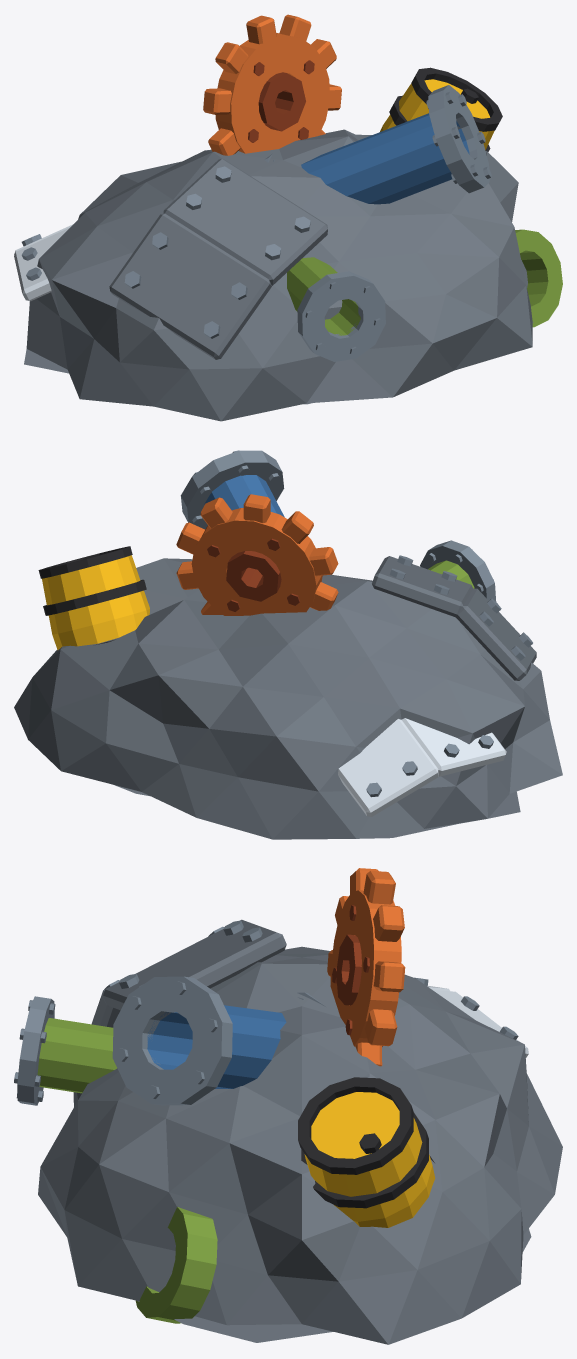
File: prop_scrap_pile.fbx
3 views of the same model, one above another, from view 1: azimuth 30°, elevation 25°; view 2: azimuth 150°, elevation 25°; view 3: azimuth 270°, elevation 25° (orthographic). The views are drawn at different scales.
Visible parts, largest first — view 1: prop_scrap_pile; view 2: prop_scrap_pile; view 3: prop_scrap_pile.
Boxes of the visible parts, x1=… form: prop_scrap_pile: x1=14, y1=14, x2=562, y2=421; prop_scrap_pile: x1=14, y1=450, x2=562, y2=839; prop_scrap_pile: x1=14, y1=868, x2=562, y2=1344.
Bounding box in the file's own units: 16.38 × 8.95 × 12.99.
